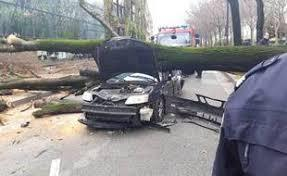Downstairs: (1, 6, 287, 90)
